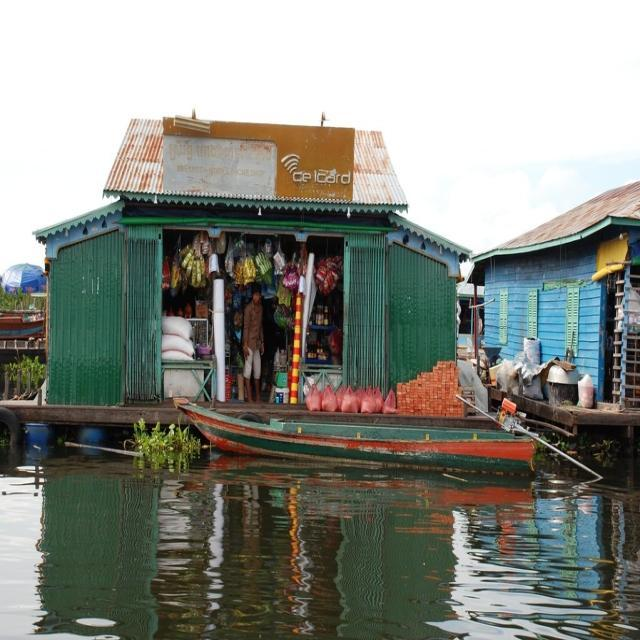Hyacinth: (134, 423, 200, 471)
boat: (170, 398, 549, 478)
